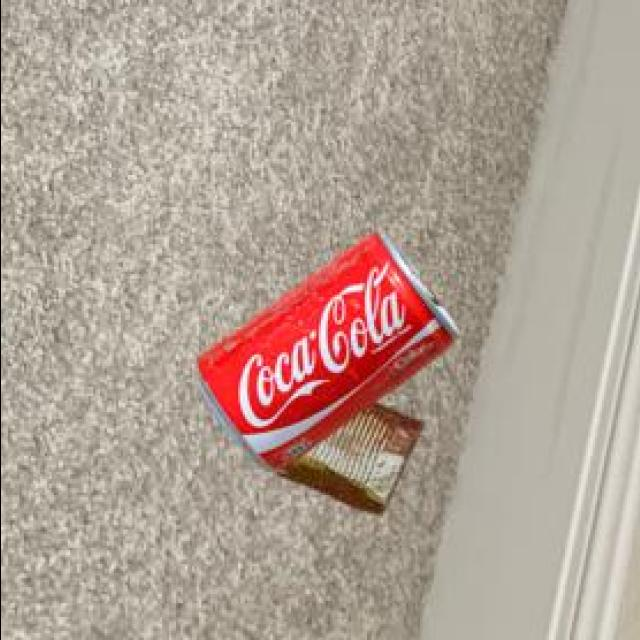logam: (197, 224, 462, 468), (275, 399, 425, 510)
